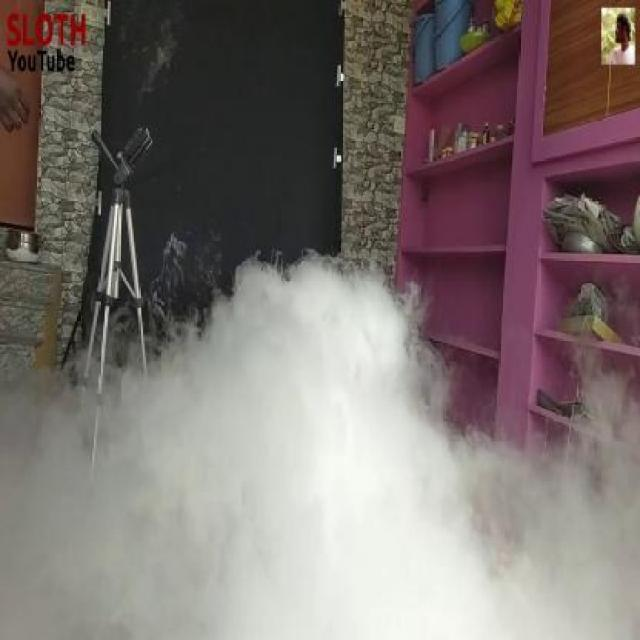smoke: (3, 275, 640, 640)
